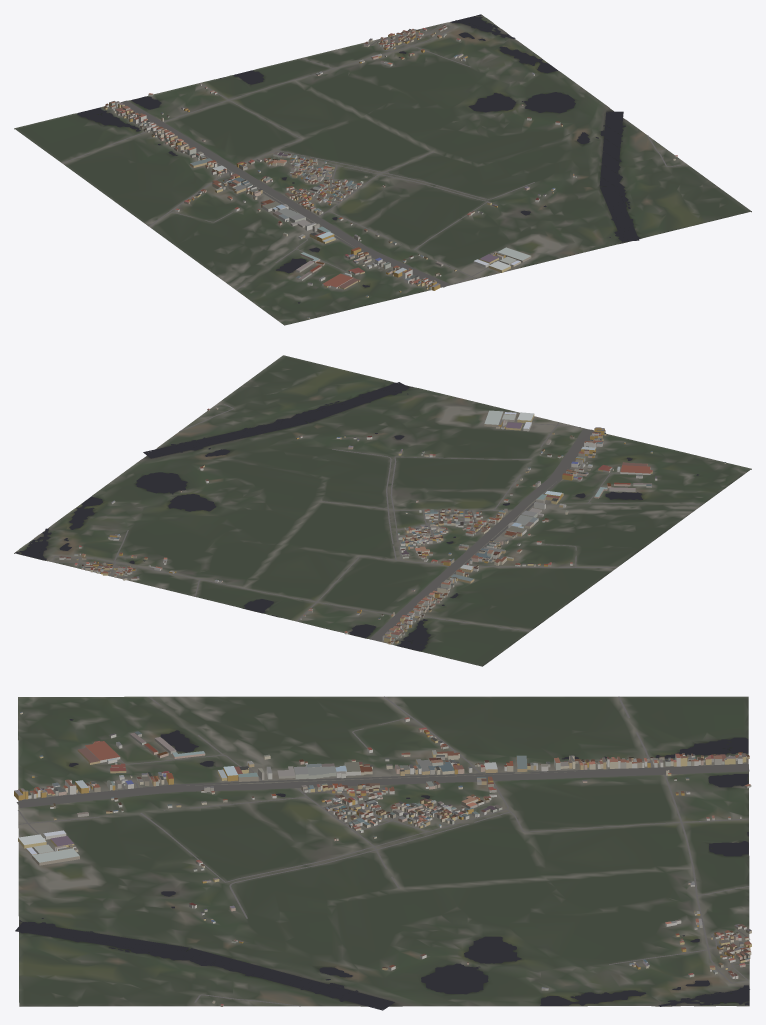
3 views of the same model, one above another, from view 1: azimuth 30°, elevation 25°; view 2: azimuth 150°, elevation 25°; view 3: azimuth 270°, elevation 25° (orthographic). The views are drawn at different scales.
Parts seen in each view (by area): view 1: ground, buildings, water, roads; view 2: ground, buildings, water, roads; view 3: ground, buildings, water, roads.
Part boxes in pixels (bbox=[...]): ground: bbox=[14, 14, 751, 325]; buildings: bbox=[103, 25, 677, 318]; water: bbox=[77, 14, 639, 303]; roads: bbox=[62, 23, 680, 290]; ground: bbox=[14, 355, 751, 666]; buildings: bbox=[59, 407, 725, 644]; water: bbox=[15, 382, 698, 650]; roads: bbox=[52, 404, 703, 641]; ground: bbox=[18, 696, 749, 1006]; buildings: bbox=[14, 712, 751, 1006]; water: bbox=[15, 719, 749, 1010]; roads: bbox=[16, 696, 749, 1006].
Bounding box in the file's own units: 1423 × 23.3 × 1416.
